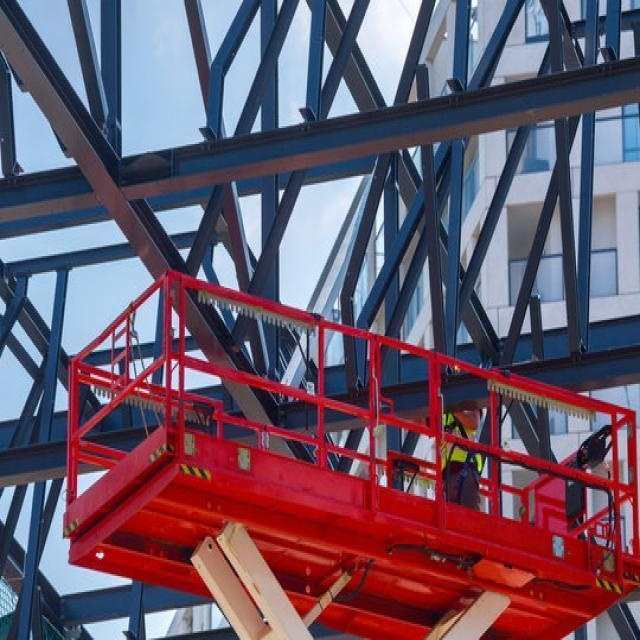Arnes_seguridad: (438, 411, 482, 477)
